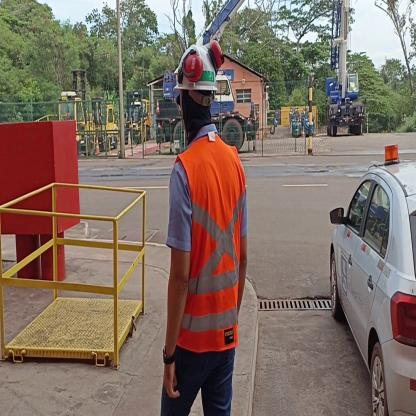Balaclava: (181, 87, 209, 137)
Capacete: (177, 43, 218, 94)
colete: (179, 146, 238, 349)
